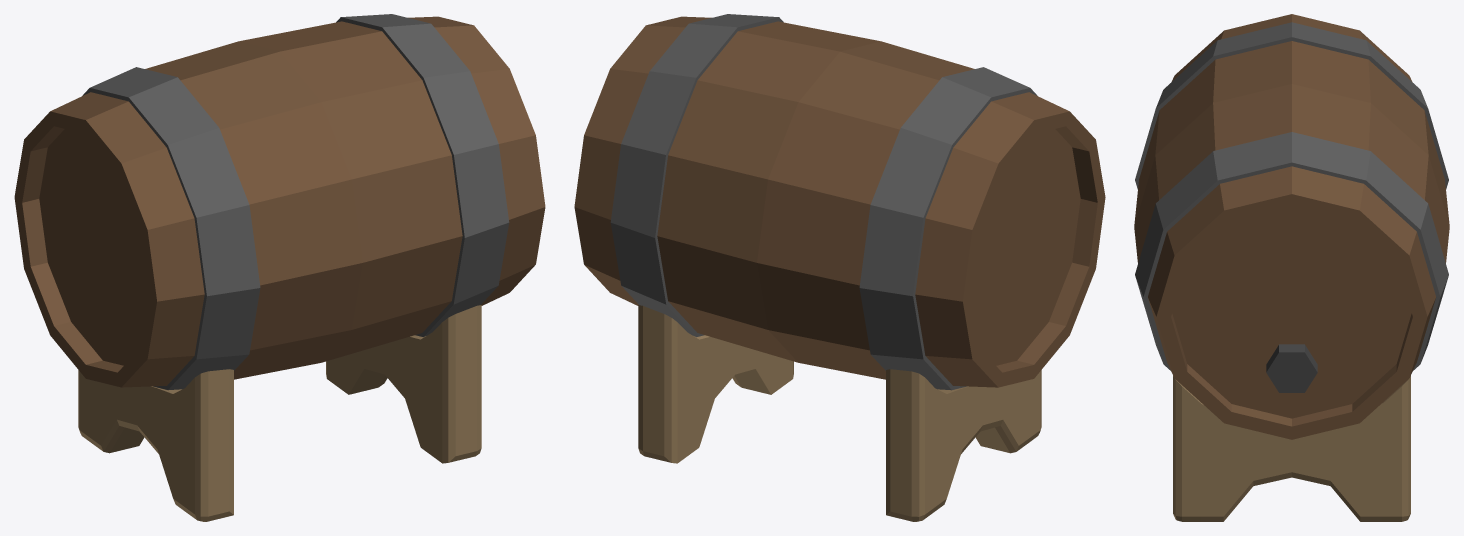
The model's file is beczka_podstawka.fbx.
The picture shows the model from 3 angles, left to right: view 1: azimuth 30°, elevation 25°; view 2: azimuth 150°, elevation 25°; view 3: azimuth 270°, elevation 25°; orthographic projection. The views are drawn at different scales.
Parts seen in each view (by area): view 1: Cube; view 2: Cube; view 3: Cube.
Part boxes in pixels (bbox=[...]): Cube: bbox=[14, 14, 545, 521]; Cube: bbox=[574, 14, 1105, 521]; Cube: bbox=[1134, 14, 1449, 521].
Bounding box in the file's own units: 409 × 397 × 303.
